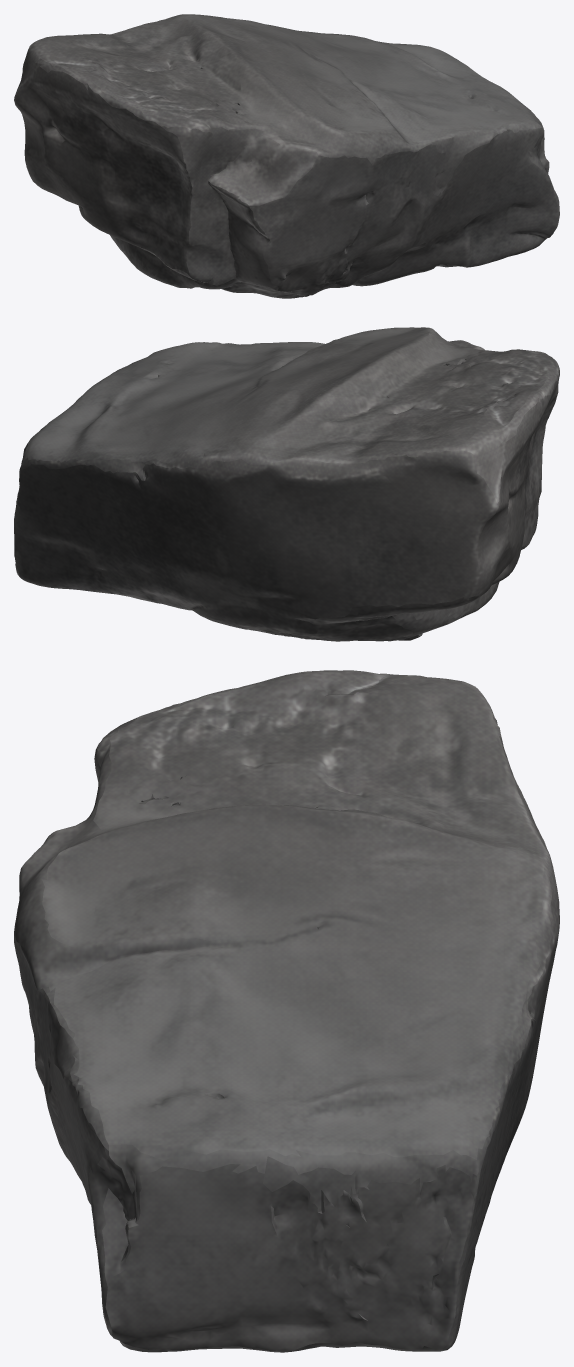
Rendered from tex_mesh.glb.
3 views of the same model, one above another, from view 1: azimuth 30°, elevation 25°; view 2: azimuth 150°, elevation 25°; view 3: azimuth 270°, elevation 25° (orthographic). The views are drawn at different scales.
Parts seen in each view (by area): view 1: world; view 2: world; view 3: world.
Part boxes in pixels (<box>): world: <box>14,14,559,298</box>; world: <box>14,327,559,641</box>; world: <box>14,670,559,1352</box>.
Size of the model in its own units: 2.5 by 1.27 by 1.7.
Materials: 1 (1 with a texture image).
